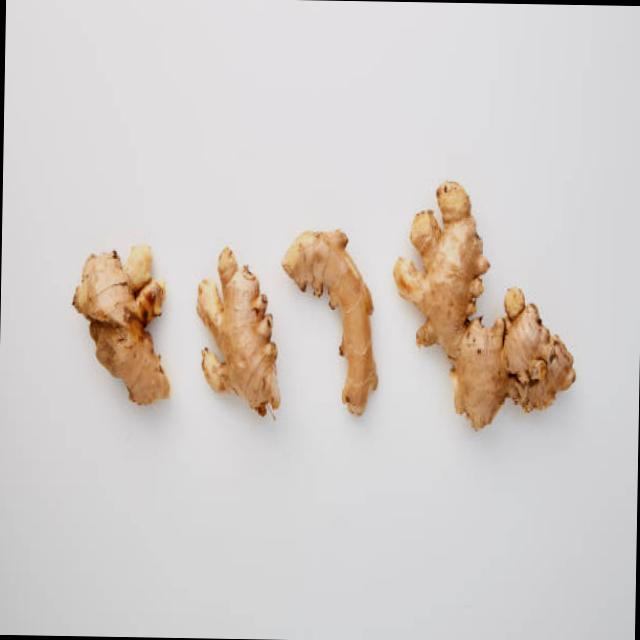ginger-root: (384, 166, 593, 466), (55, 214, 187, 432), (192, 228, 280, 456)
